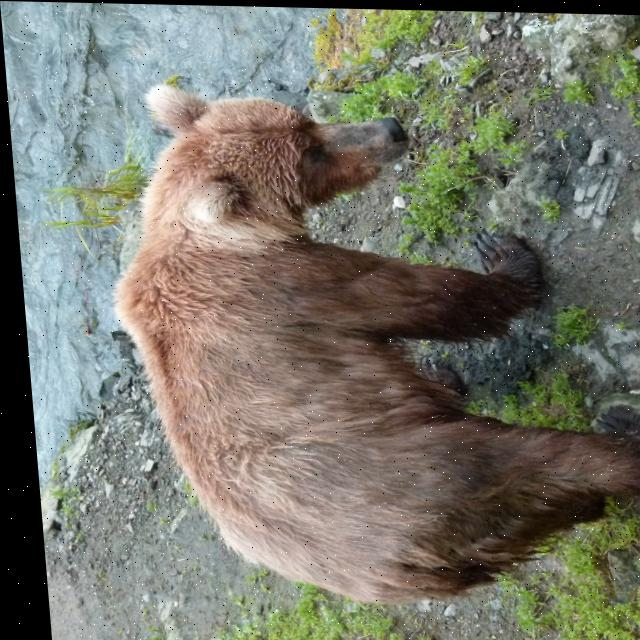bear face: (95, 78, 640, 600)
